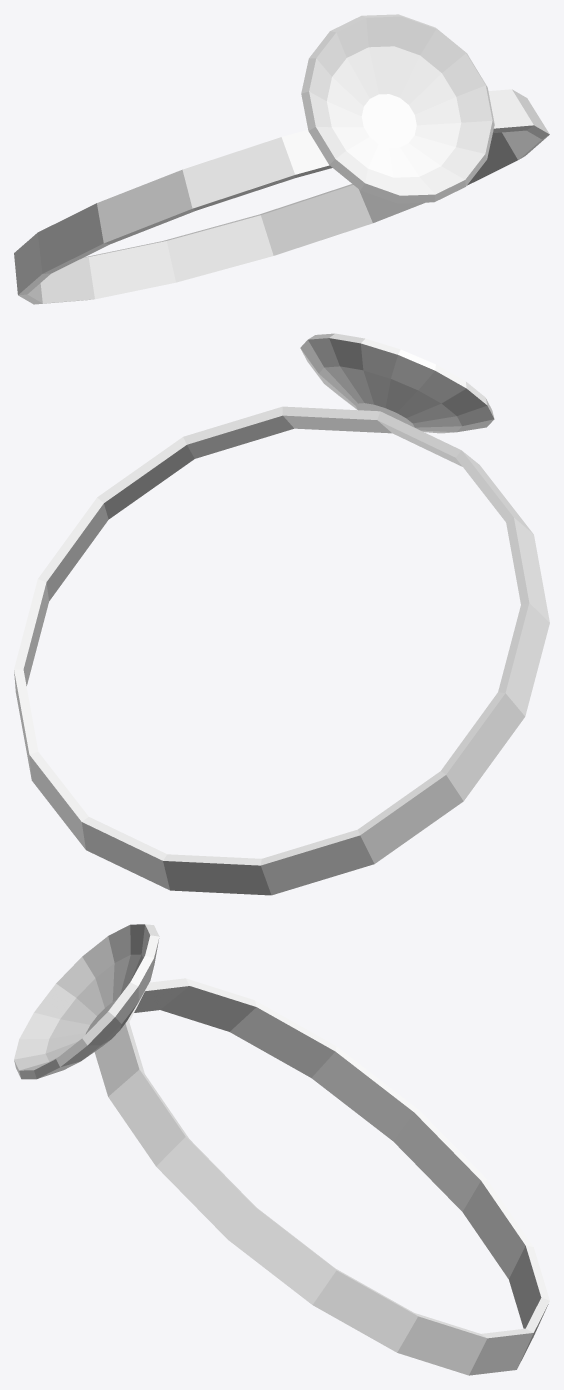
Rendered from doctormirror.fbx.
3 renders of one model, top to bottom at view 1: azimuth 30°, elevation 25°; view 2: azimuth 150°, elevation 25°; view 3: azimuth 270°, elevation 25°, orthographic.
Visible parts, largest first — view 1: doctor; view 2: doctor; view 3: doctor.
Part boxes in pixels (x1,y1,x2,y2): doctor: (14,14,549,304); doctor: (14,333,549,895); doctor: (14,924,549,1375).
Size of the model in its own units: 40.99 by 33.04 by 39.98.
